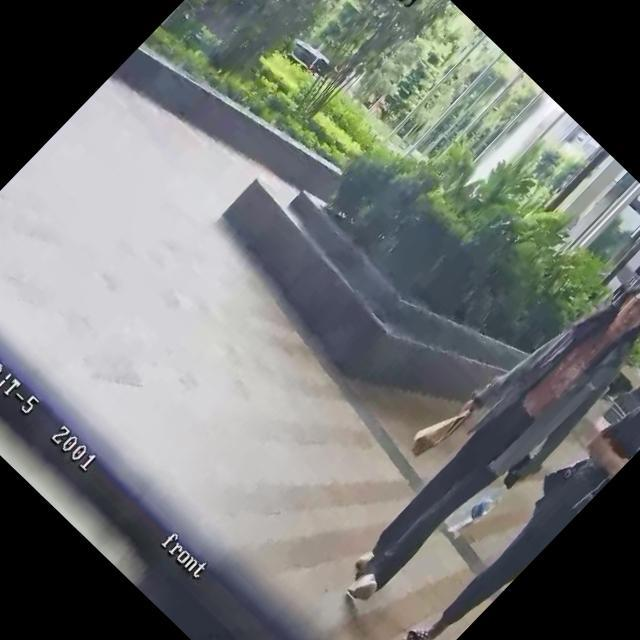person: (313, 244, 640, 628), (395, 363, 640, 640)
